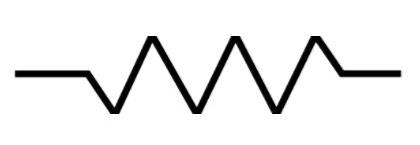resistor: (76, 27, 359, 137)
